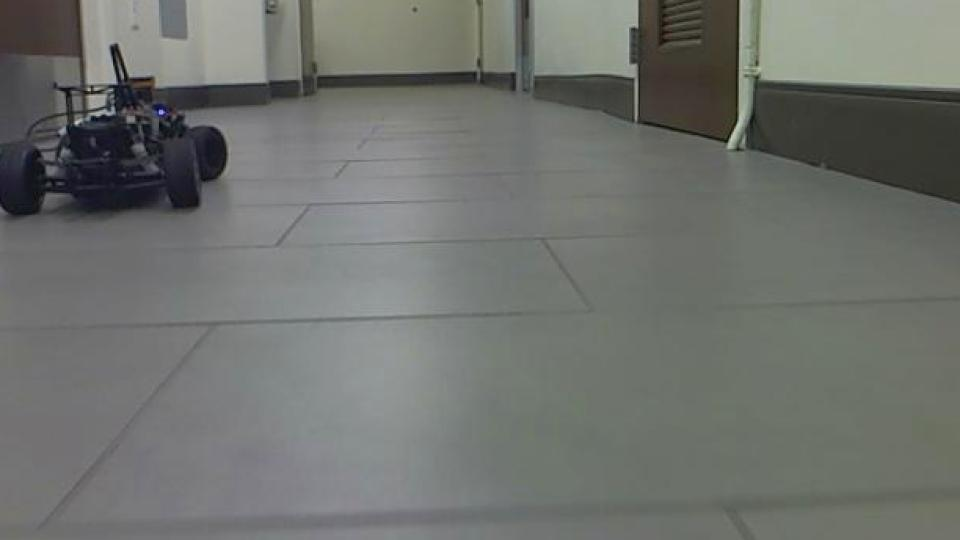car: (0, 41, 232, 218)
